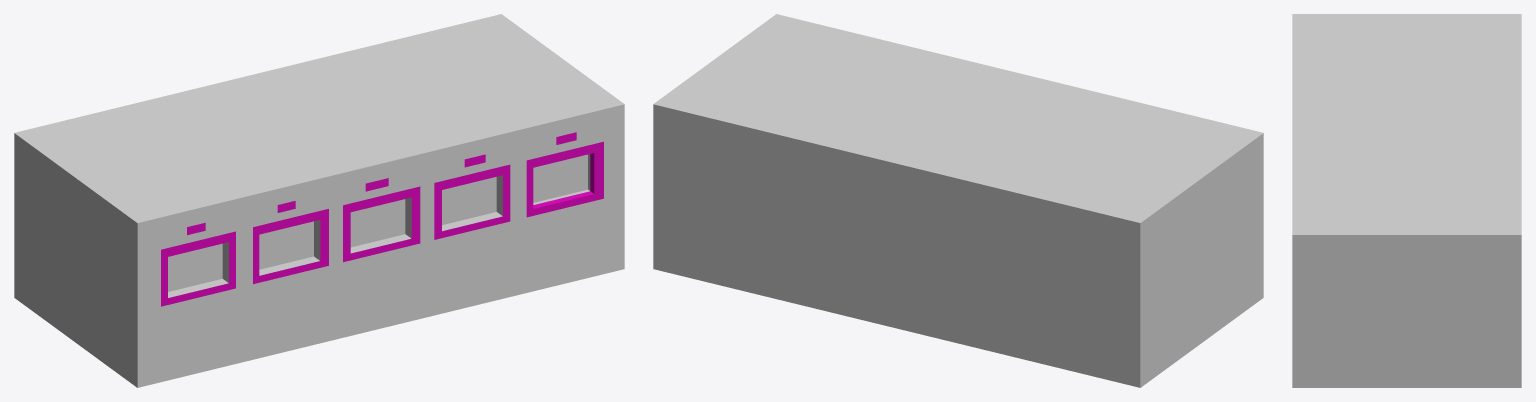
The picture shows the model from 3 angles, left to right: view 1: azimuth 30°, elevation 25°; view 2: azimuth 150°, elevation 25°; view 3: azimuth 270°, elevation 25°; orthographic projection. The views are drawn at different scales.
Visible parts, largest first — view 1: Cube.009; view 2: Cube.009; view 3: Cube.009.
Boxes of the visible parts, left/top/right/bottom form: Cube.009: left=14, top=14, right=624, bottom=387; Cube.009: left=653, top=14, right=1263, bottom=387; Cube.009: left=1292, top=14, right=1521, bottom=387.
Bounding box in the file's own units: 456 × 147 × 200.
